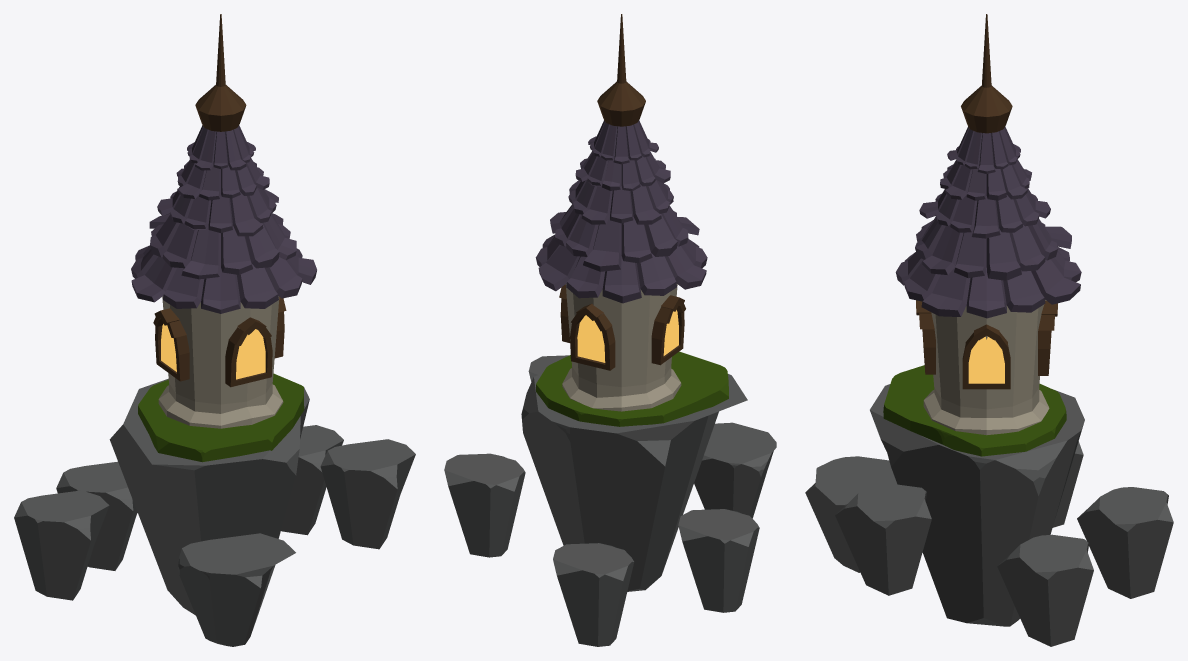
The model's file is tower1.glb.
3 renders of one model, left to right at view 1: azimuth 30°, elevation 25°; view 2: azimuth 150°, elevation 25°; view 3: azimuth 270°, elevation 25°, orthographic. The views are drawn at different scales.
Visible parts, largest first — view 1: Circle.008, Circle.003, Circle, Circle.010, Circle.006, Circle.013, Circle.014, Circle.002, Circle.012, Circle.001, Plane.012, Plane.009 (+1 smaller); view 2: Circle.003, Circle.008, Circle, Circle.006, Circle.012, Circle.002, Circle.014, Circle.010, Circle.001, Plane.003, Plane.009, Plane.014 (+1 smaller); view 3: Circle.003, Circle.008, Circle, Circle.012, Circle.013, Circle.002, Circle.014, Circle.010, Circle.001, Plane.004, Plane.001, Plane.003 (+2 smaller).
Part boxes in pixels (x1,y1,x2,y2): Circle.008: (131,125,316,313); Circle.003: (109,378,309,615); Circle: (158,296,283,428); Circle.010: (178,533,295,646); Circle.006: (14,490,109,600); Circle.013: (320,439,415,549); Circle.014: (138,373,304,462); Circle.002: (56,461,137,570); Circle.012: (281,425,343,535); Circle.001: (195,14,246,131); Plane.012: (225,317,272,387); Plane.009: (153,308,189,381); Circle.003: (521,374,747,591); Circle.008: (535,120,707,303); Circle: (562,283,681,411); Circle.006: (678,509,759,612); Circle.012: (444,453,525,557); Circle.002: (553,543,634,646); Circle.014: (536,351,728,426); Circle.010: (694,422,776,518); Circle.001: (597,14,645,126); Plane.003: (570,303,615,370); Plane.009: (651,295,685,365); Plane.014: (577,315,605,362); Circle.003: (870,384,1084,626); Circle.008: (895,126,1081,318); Circle: (923,300,1049,435); Circle.012: (997,534,1093,646); Circle.013: (835,483,931,595); Circle.002: (1077,487,1173,598); Circle.014: (883,365,1066,456); Circle.010: (805,456,897,572); Circle.001: (961,14,1012,133); Plane.004: (968,336,1004,383); Plane.001: (962,324,1010,389); Plane.003: (1038,300,1057,375).
Size of the model in its own units: 7.12 by 12.59 by 7.02.
